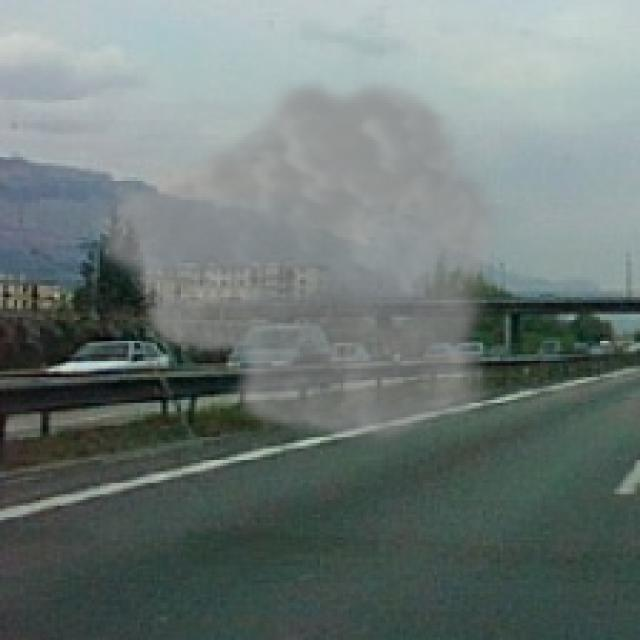Smoke: (83, 69, 506, 448)
